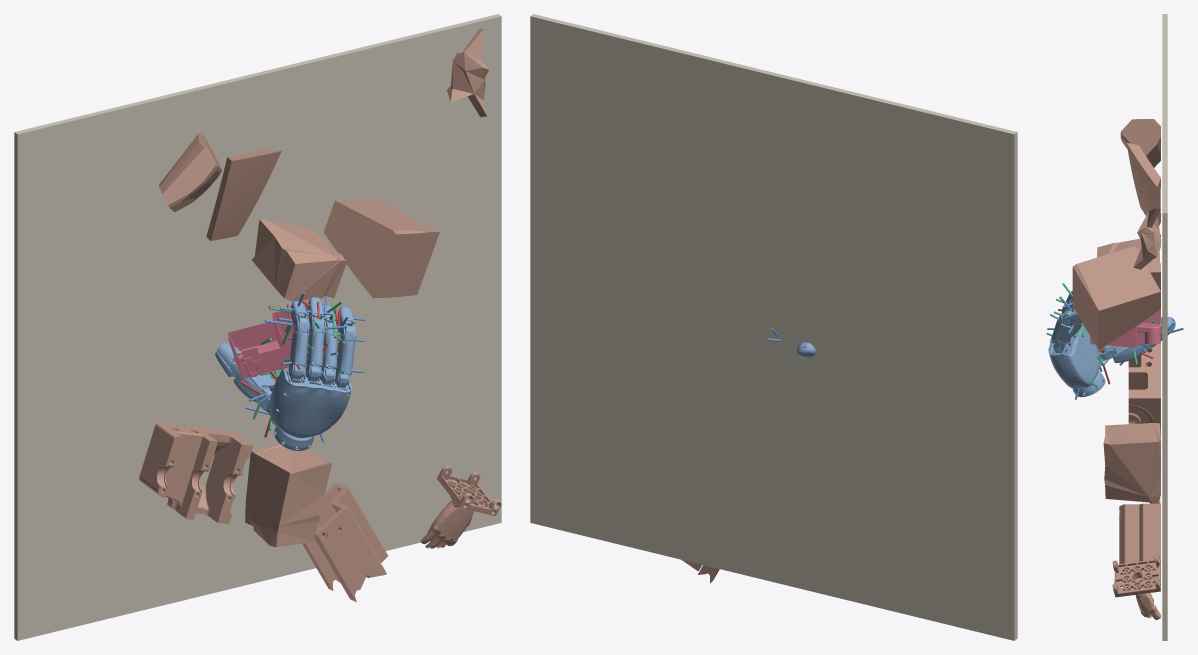
The picture shows the model from 3 angles, left to right: view 1: azimuth 30°, elevation 25°; view 2: azimuth 150°, elevation 25°; view 3: azimuth 270°, elevation 25°; orthographic projection. The views are drawn at different scales.
Parts seen in each view (by area): view 1: environment, hand, local_object_003, local_object_004, local_object_008, local_object_002, local_object_000, local_object_007, local_object_005, target_object, local_object_001, local_object_006; view 2: environment; view 3: local_object_004, local_object_008, hand, environment, local_object_002, local_object_003, local_object_005, local_object_007, local_object_001, local_object_006, target_object, local_object_000.
Part boxes in pixels (bbox=[...]): environment: bbox=[14, 14, 501, 640]; hand: bbox=[215, 297, 355, 450]; local_object_003: bbox=[139, 422, 252, 523]; local_object_004: bbox=[323, 200, 439, 298]; local_object_008: bbox=[245, 443, 332, 547]; local_object_002: bbox=[302, 482, 388, 601]; local_object_000: bbox=[251, 219, 347, 301]; local_object_007: bbox=[206, 149, 281, 240]; local_object_005: bbox=[421, 465, 501, 548]; target_object: bbox=[227, 300, 309, 378]; local_object_001: bbox=[159, 132, 222, 212]; local_object_006: bbox=[447, 29, 488, 117]; environment: bbox=[530, 14, 1017, 640]; local_object_004: bbox=[1072, 246, 1160, 349]; local_object_008: bbox=[1103, 423, 1160, 503]; hand: bbox=[1048, 290, 1175, 397]; environment: bbox=[1162, 14, 1167, 640]; local_object_002: bbox=[1119, 503, 1160, 583]; local_object_003: bbox=[1128, 343, 1160, 436]; local_object_005: bbox=[1112, 555, 1160, 619]; local_object_007: bbox=[1126, 142, 1160, 225]; local_object_001: bbox=[1120, 119, 1160, 167]; local_object_006: bbox=[1133, 208, 1160, 269]; target_object: bbox=[1090, 310, 1160, 347]; local_object_000: bbox=[1097, 234, 1160, 290].
Bounding box in the file's own units: 0.7 × 0.7302 × 0.2037.
